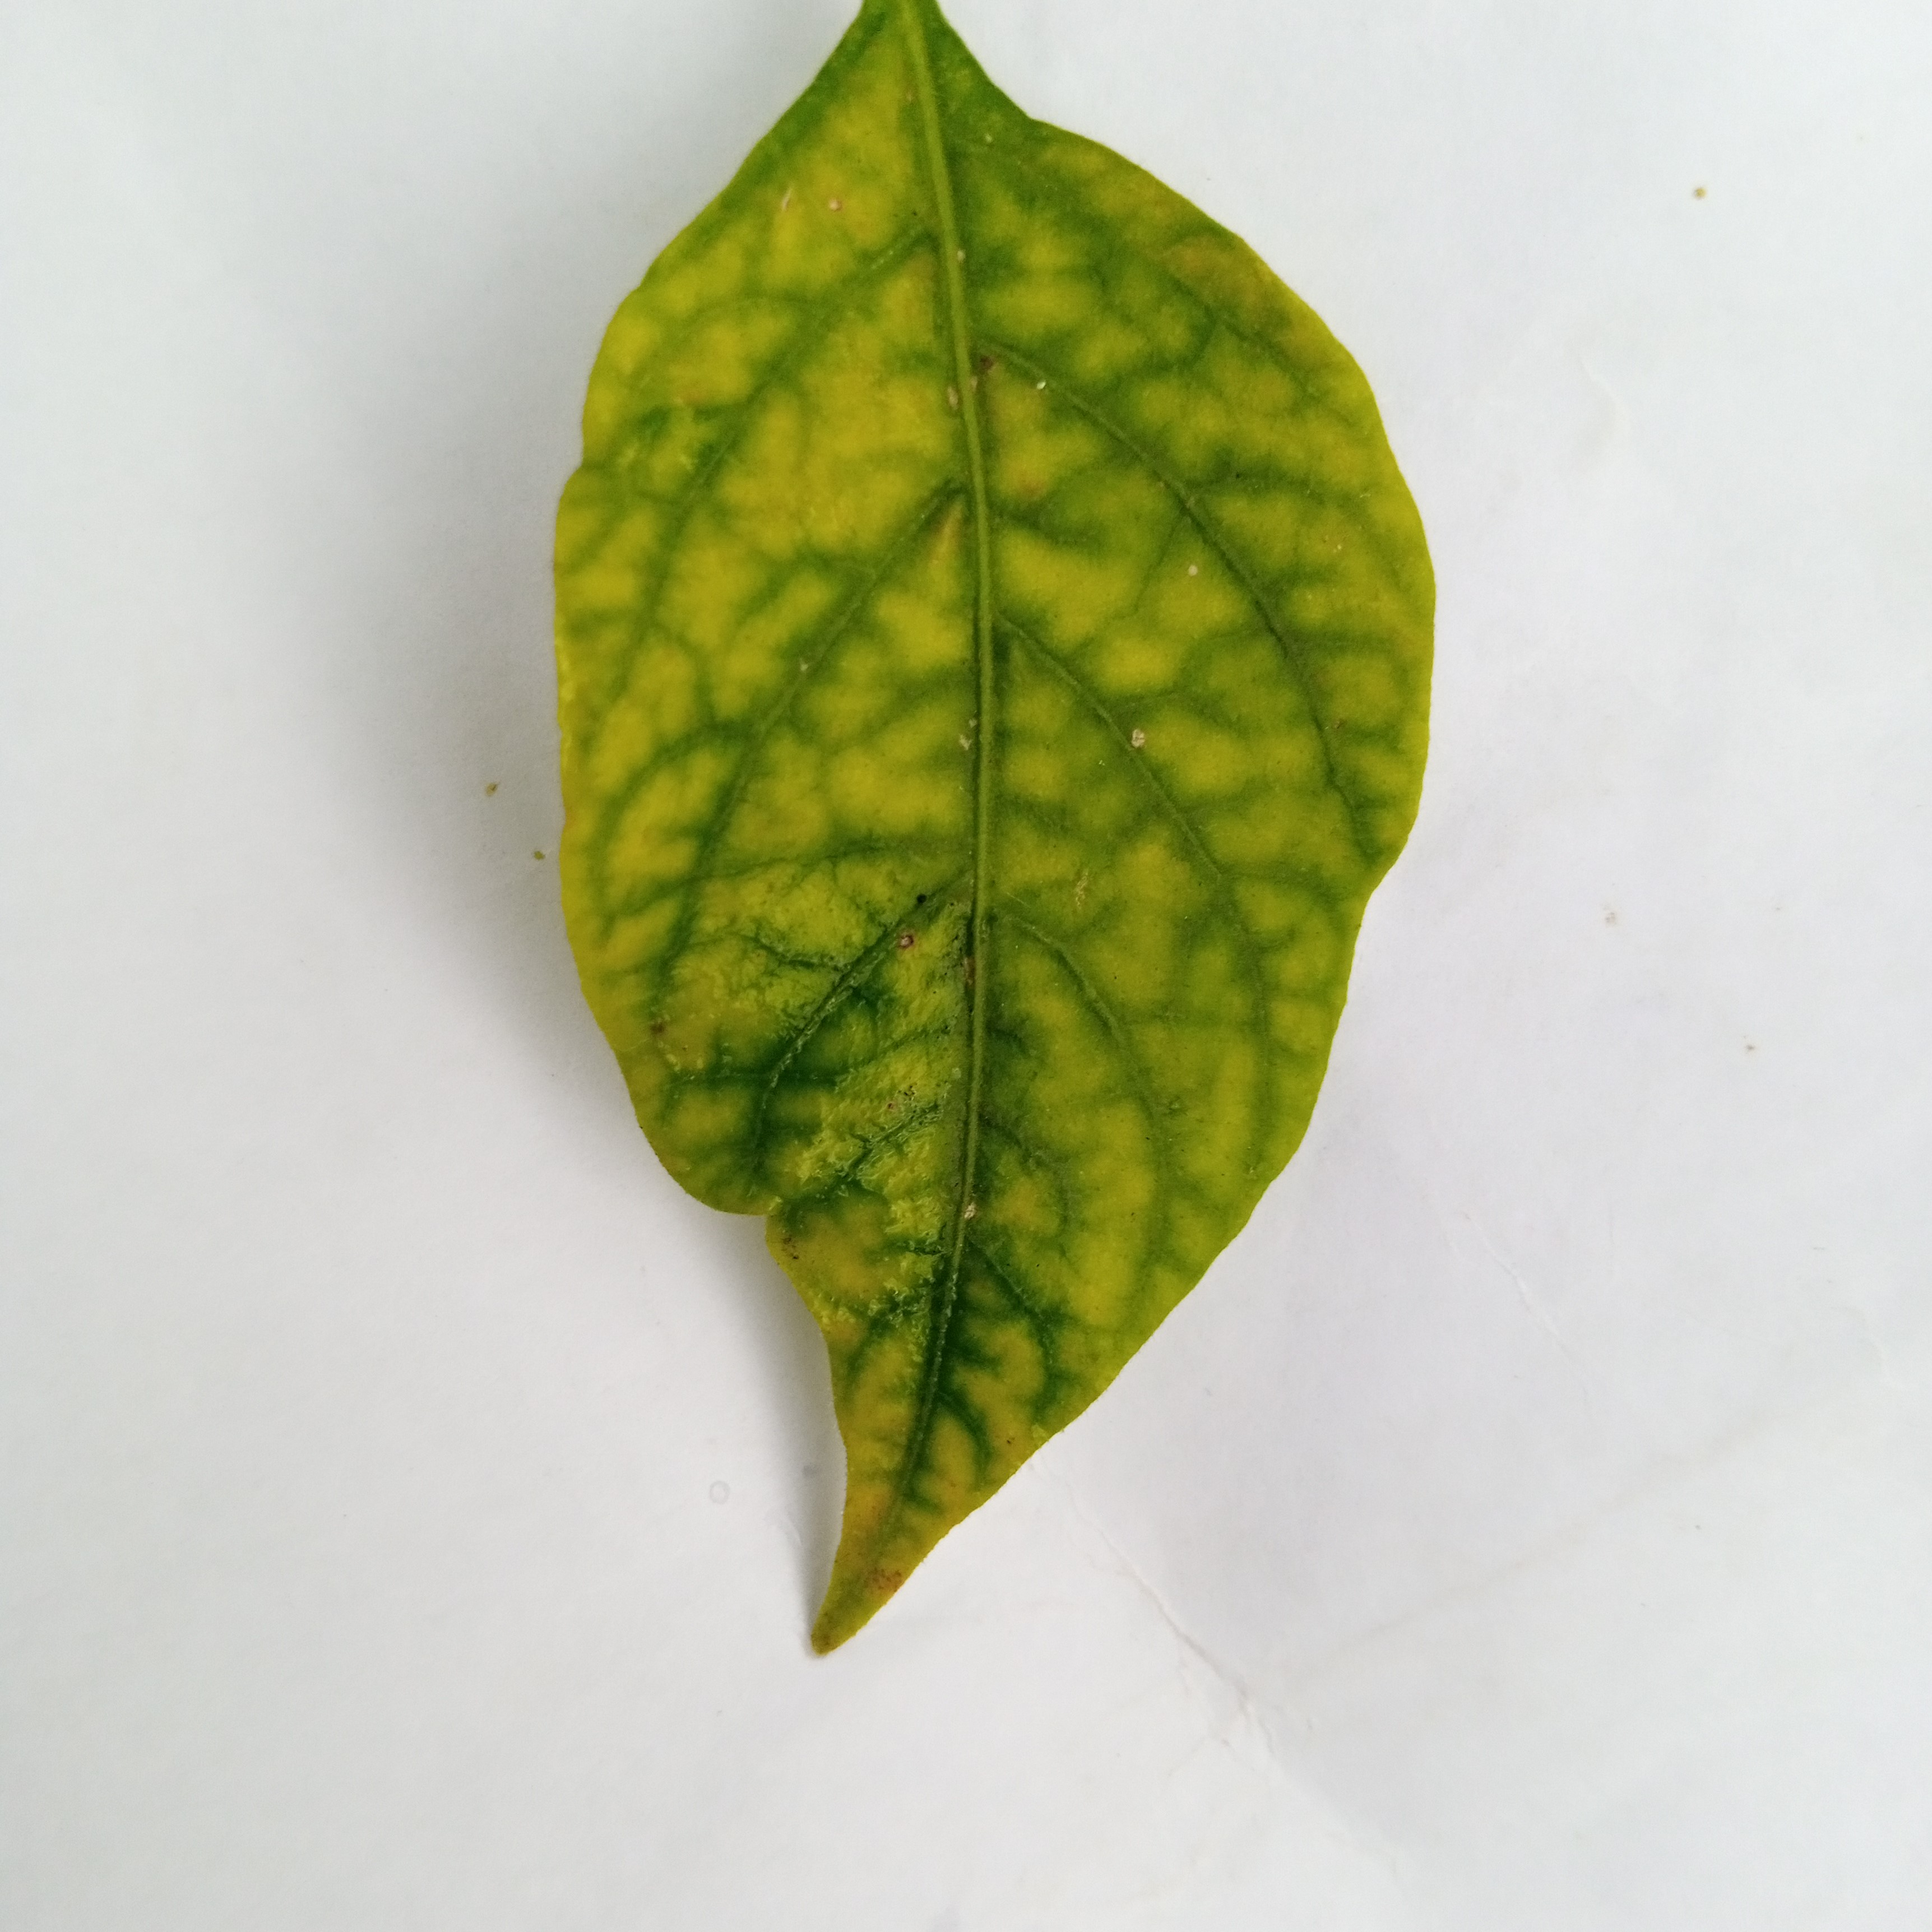Leaf: (375, 16, 1518, 1679)
